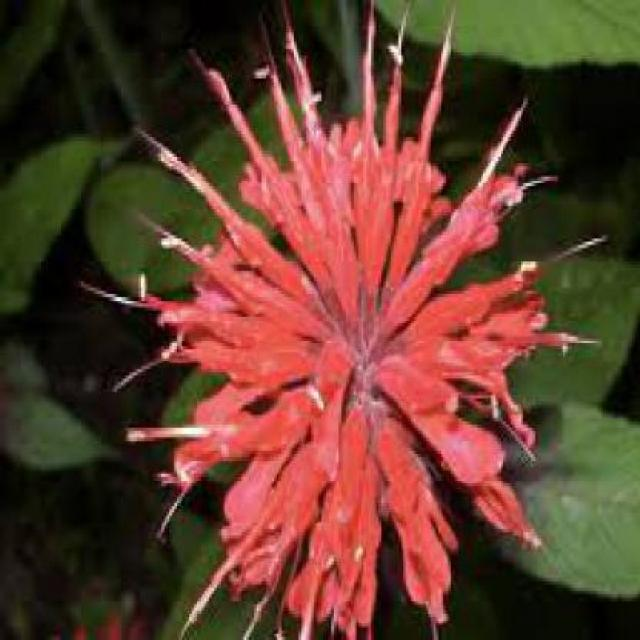Flower: (77, 3, 612, 637)
